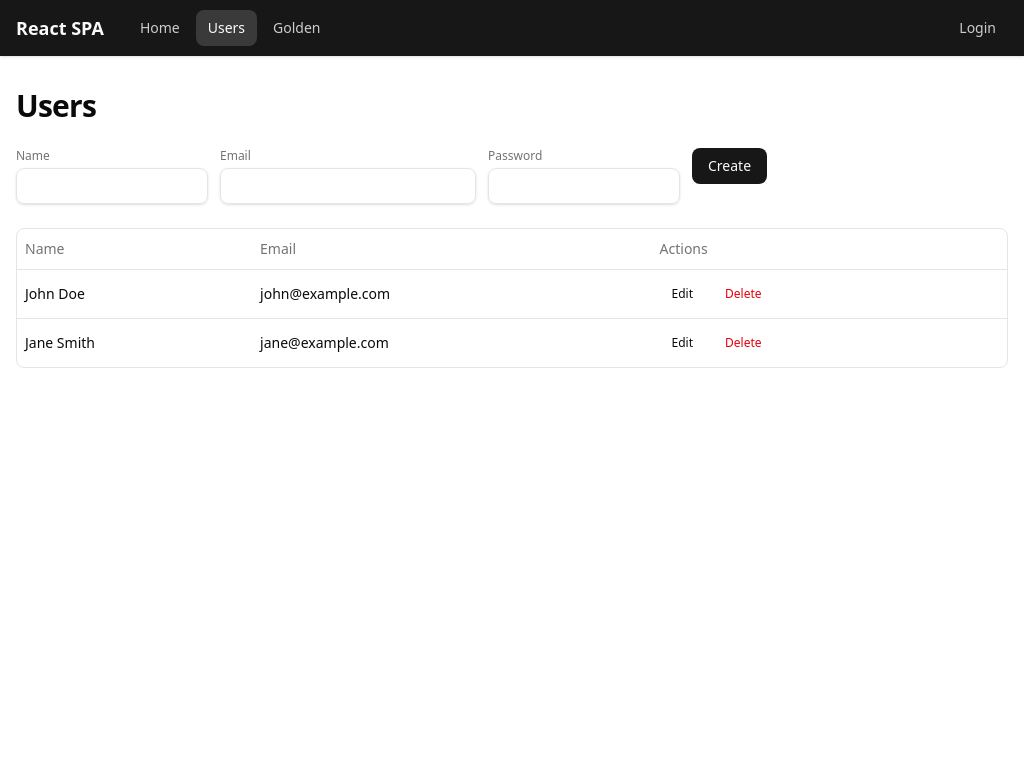
Test: App › navigates back to home page
Click the link "Users" at (226,28), box [196,10,257,46]
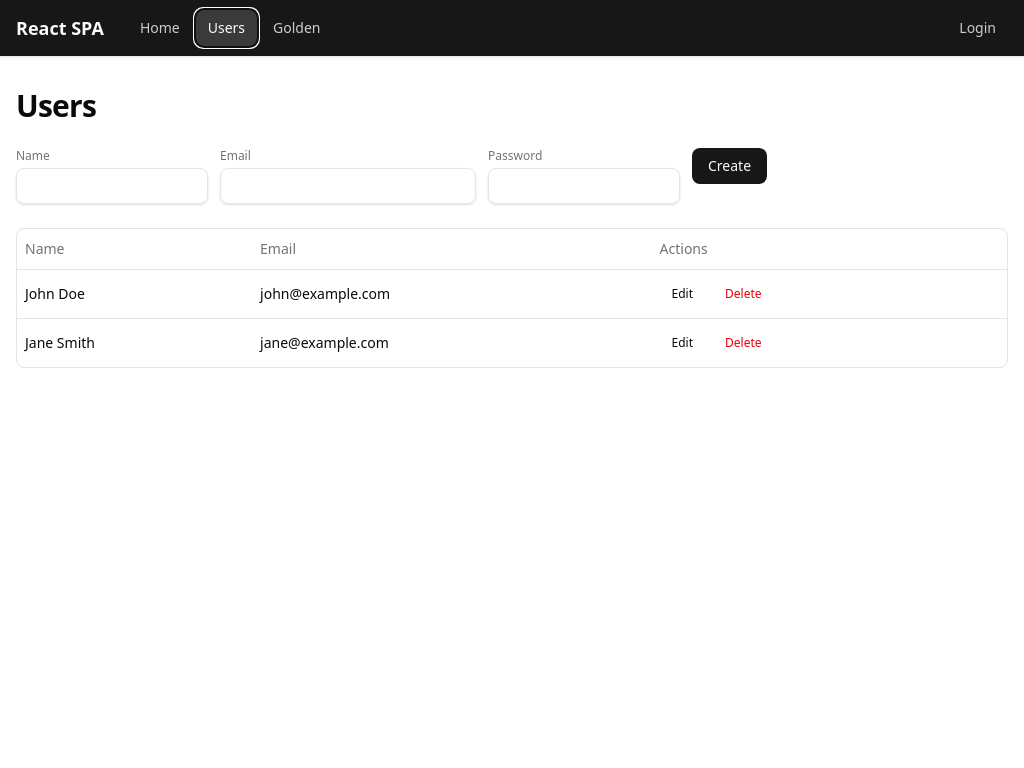
Expected: the heading "Users" is shown, [16,85,96,126]
Click the link "Home" at (160,28), box [140,18,180,37]
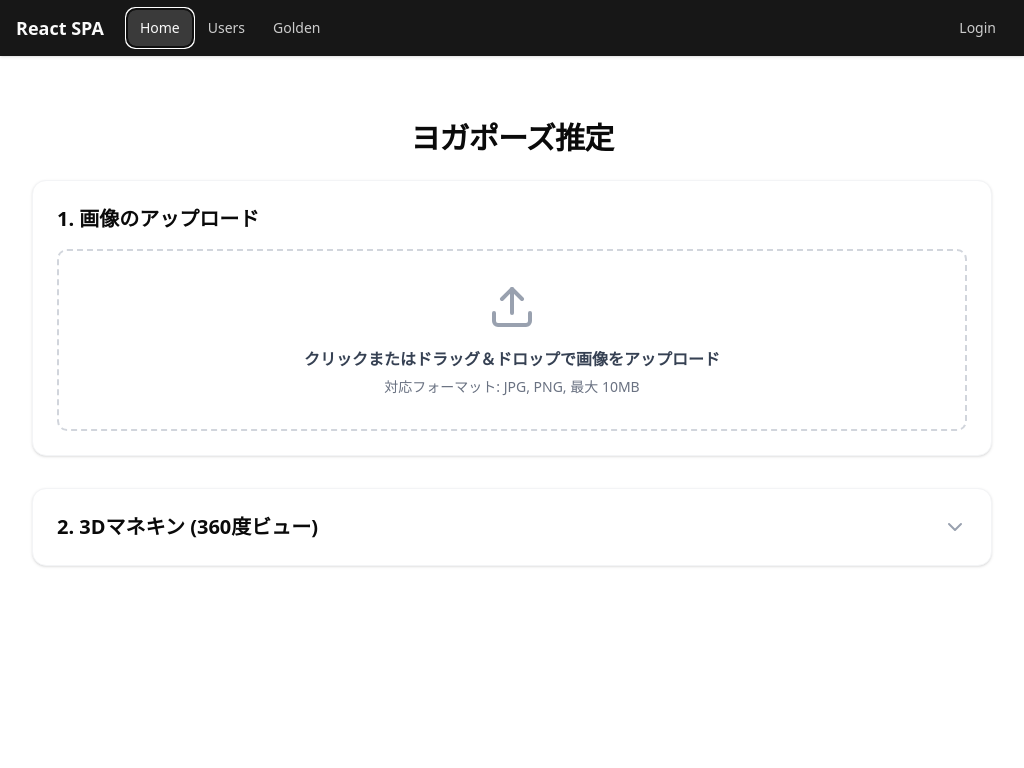
Now the heading "ヨガポーズ推定" is shown, box [410,117,614,158]
